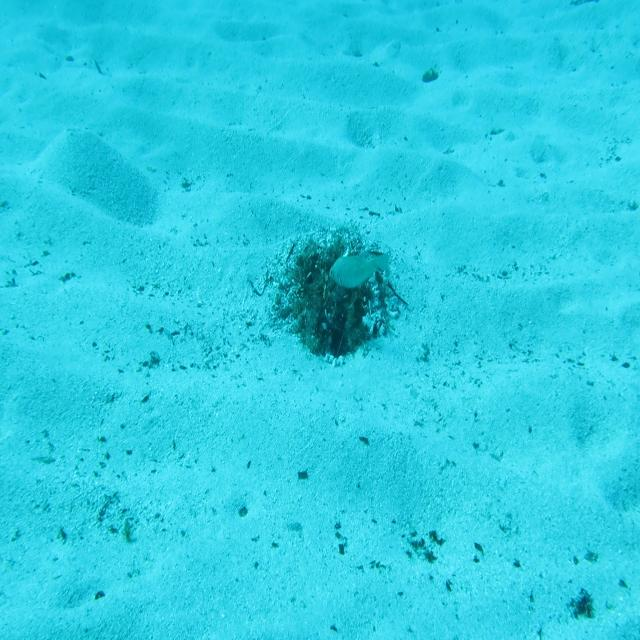LAND: (327, 235, 395, 292)
nest: (277, 218, 403, 361)
